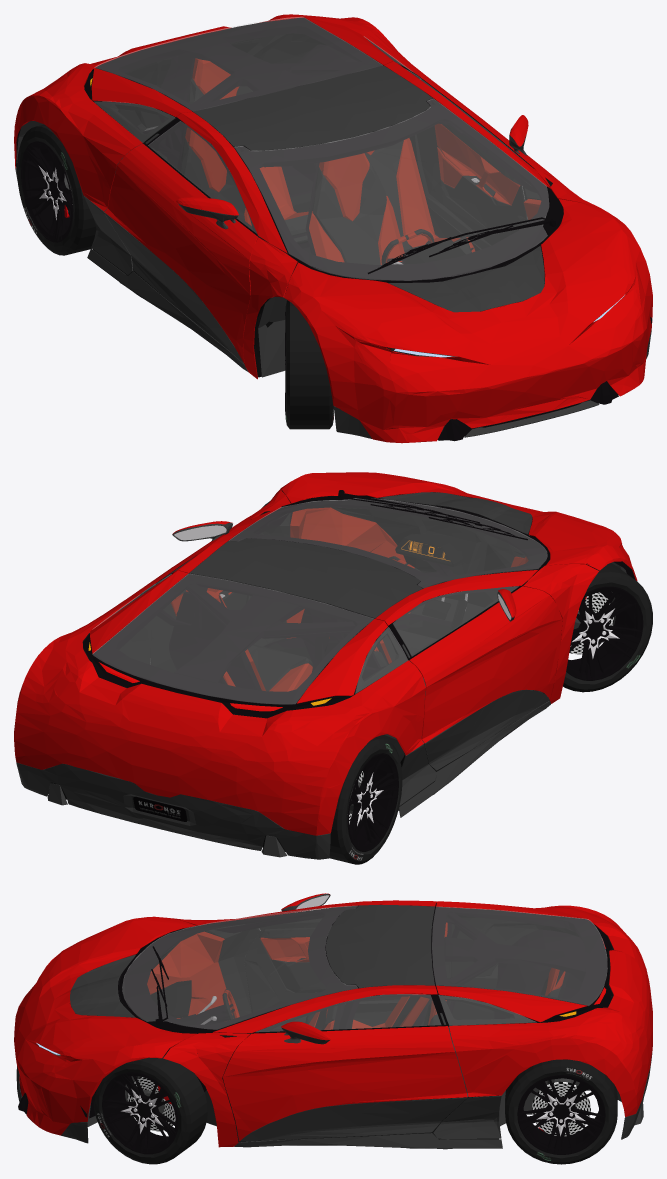
File: car2.glb
3 renders of one model, top to bottom at view 1: azimuth 30°, elevation 25°; view 2: azimuth 150°, elevation 25°; view 3: azimuth 270°, elevation 25°, orthographic. The views are drawn at different scales.
Visible parts, largest first — view 1: BodyHood, BodyWindshield, BodyRearwindow, BodyDoorRColor1, BodyRearPanelsColor1, BodyRoofPanel, BodyWindshieldGasket, InteriorSeatsColor1, InteriorSeatsColor2, BodyPillars, InteriorPillar, InteriorRearHatch (+21 smaller); view 2: BodyRearPanelsColor1, BodyRearwindow, BodyWindshield, BodyDoorRColor1, BodyPanelsColor2, BodyRoofPanel, BodyHood, InteriorRearHatch, BodyPillars, InteriorPillar, BodyWindshieldGasket, InteriorDashMid (+23 smaller); view 3: BodyRearPanelsColor1, BodyWindshield, BodyDoorLColor1, BodyHood, BodyRearwindow, BodyRoofPanel, BodyPillars, BodyWindshieldGasket, BodyDoorLColor2, BodyPanelsColor2, WheelFrontL, InteriorRearHatch (+25 smaller).
Part boxes in pixels (box(x1,y1,x2,y2)): BodyHood: box(284, 199, 652, 443); BodyWindshield: box(234, 98, 548, 280); BodyRearwindow: box(94, 17, 382, 111); BodyDoorRColor1: box(104, 143, 257, 363); BodyRearPanelsColor1: box(14, 14, 430, 211); BodyRoofPanel: box(193, 65, 432, 150); BodyWindshieldGasket: box(234, 99, 563, 282); InteriorSeatsColor1: box(185, 58, 475, 264); InteriorSeatsColor2: box(180, 78, 471, 264); BodyPillars: box(177, 61, 599, 379); InteriorPillar: box(158, 38, 434, 169); InteriorRearHatch: box(93, 18, 383, 118); BodyRearPanelsColor1: box(14, 570, 425, 835); BodyRearwindow: box(92, 574, 373, 704); BodyWindshield: box(229, 498, 547, 588); BodyDoorRColor1: box(409, 586, 562, 743); BodyPanelsColor2: box(15, 701, 550, 859); BodyRoofPanel: box(189, 538, 422, 618); BodyHood: box(278, 472, 637, 580); InteriorRearHatch: box(93, 574, 373, 708); BodyPillars: box(172, 490, 598, 703); InteriorPillar: box(174, 575, 417, 683); BodyWindshieldGasket: box(230, 497, 550, 588); InteriorDashMid: box(331, 503, 528, 623); BodyRearPanelsColor1: box(436, 901, 652, 1116); BodyWindshield: box(122, 906, 357, 1029); BodyDoorLColor1: box(222, 1026, 467, 1141); BodyHood: box(14, 916, 196, 1135); BodyRearwindow: box(432, 907, 607, 1005); BodyRoofPanel: box(326, 905, 434, 988); BodyPillars: box(163, 900, 437, 1147); BodyWindshieldGasket: box(118, 906, 357, 1033); BodyDoorLColor2: box(240, 1097, 467, 1141); BodyPanelsColor2: box(16, 1046, 652, 1149); WheelFrontL: box(93, 1055, 207, 1164); InteriorRearHatch: box(431, 907, 606, 1022).
Size of the model in its own units: 2.54 by 1.15 by 4.35.
Materials: 23 (6 with a texture image).
